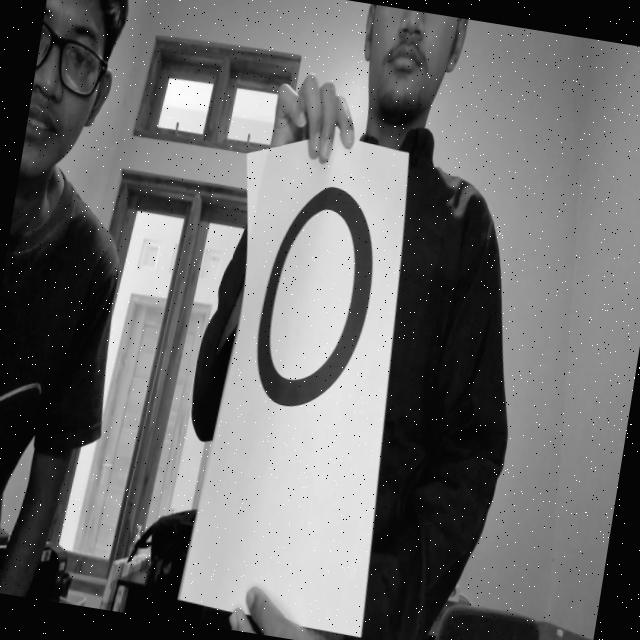o: (222, 170, 422, 458)
